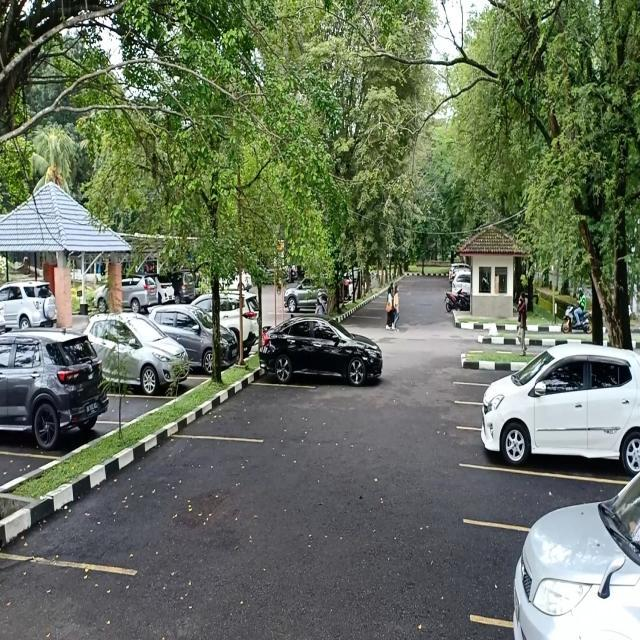empty: (121, 430, 219, 575), (472, 465, 583, 529), (210, 385, 289, 449), (107, 388, 153, 428)
occupied: (476, 389, 640, 477), (1, 364, 111, 459), (258, 345, 378, 393), (108, 342, 191, 399)
